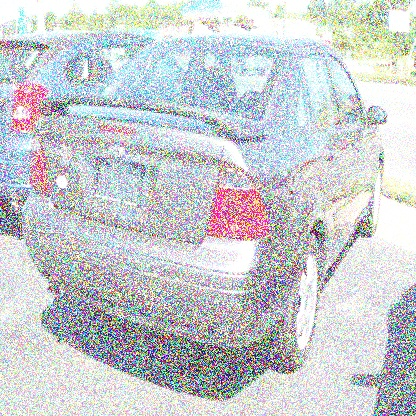Vehicle: (19, 1, 387, 374)
